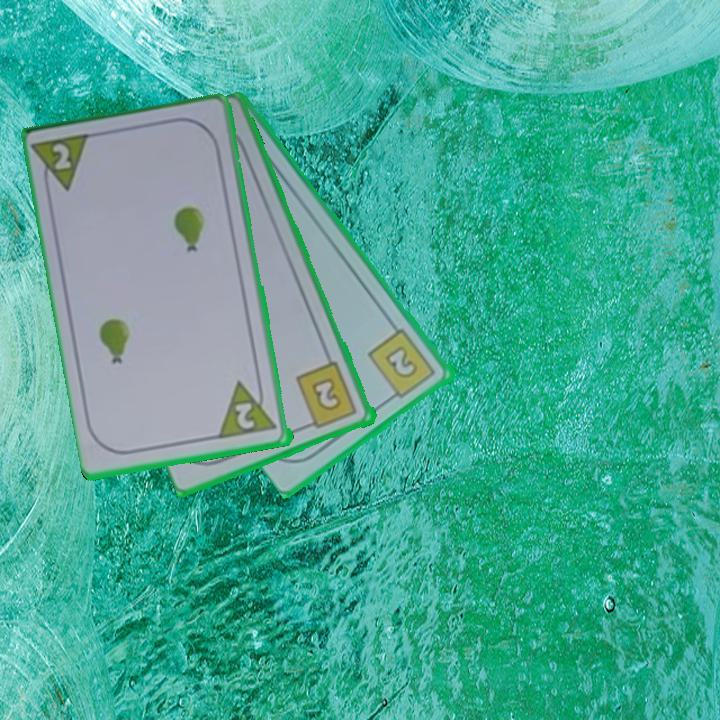2b: (365, 325, 440, 404), (293, 358, 361, 432)
2p: (232, 399, 259, 433), (49, 140, 75, 174)
